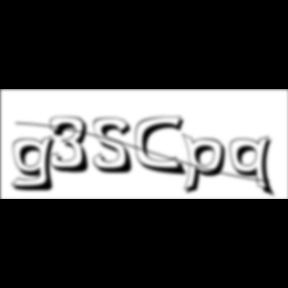3: (50, 116, 96, 176)
C: (136, 115, 190, 178)
S: (93, 117, 139, 176)
g: (11, 134, 63, 194)
p: (182, 132, 232, 198)
q: (230, 135, 280, 200)
